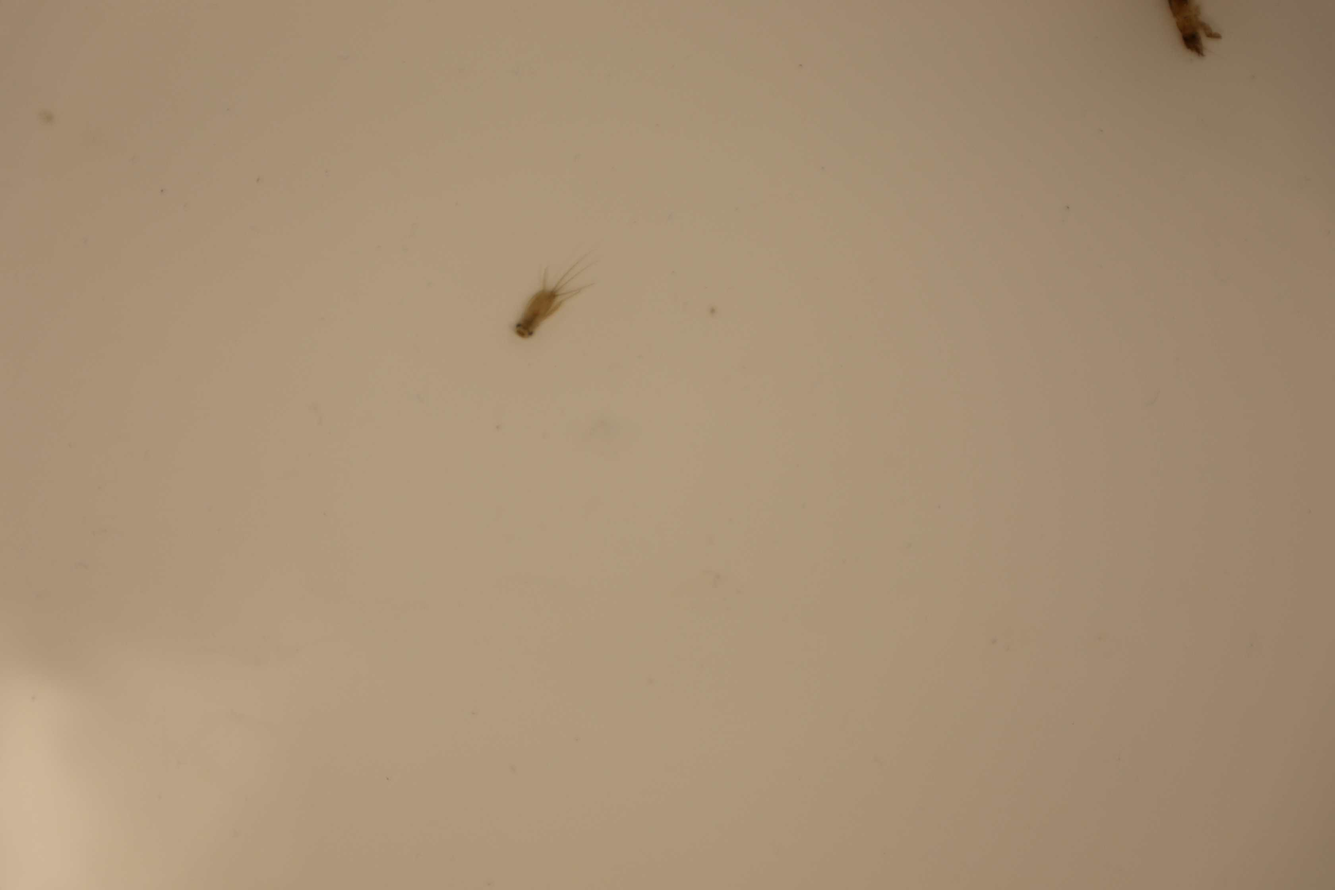Mayfly: (506, 244, 601, 345)
Other: (1163, 0, 1234, 69)
